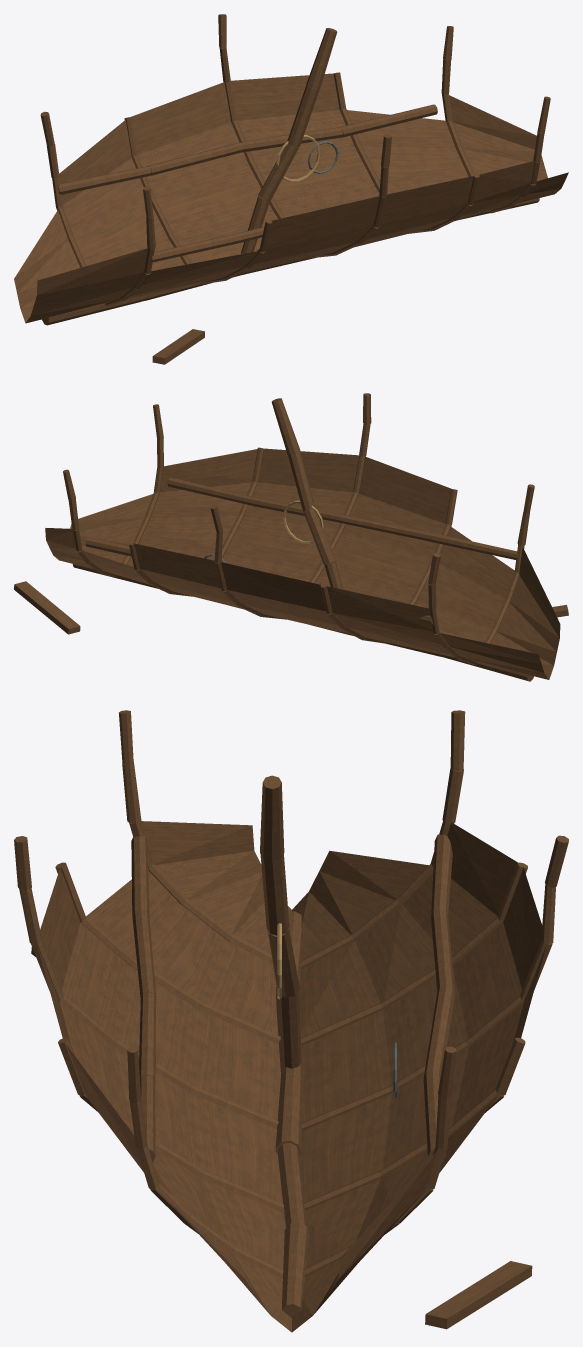
File: en-001_shipwreck_hull_chunk__large.obj
3 views of the same model, one above another, from view 1: azimuth 30°, elevation 25°; view 2: azimuth 150°, elevation 25°; view 3: azimuth 270°, elevation 25° (orthographic). The views are drawn at different scales.
Visible parts, largest first — view 1: en-001_shipwreck_hull_chunk__large; view 2: en-001_shipwreck_hull_chunk__large; view 3: en-001_shipwreck_hull_chunk__large.
Part boxes in pixels (left/top/right/bottom): en-001_shipwreck_hull_chunk__large: left=14, top=14, right=568, bottom=364; en-001_shipwreck_hull_chunk__large: left=14, top=393, right=568, bottom=681; en-001_shipwreck_hull_chunk__large: left=14, top=710, right=568, bottom=1332.
Bounding box in the file's own units: 4.08 × 1.73 × 2.26.
3 materials, 3 textured.
